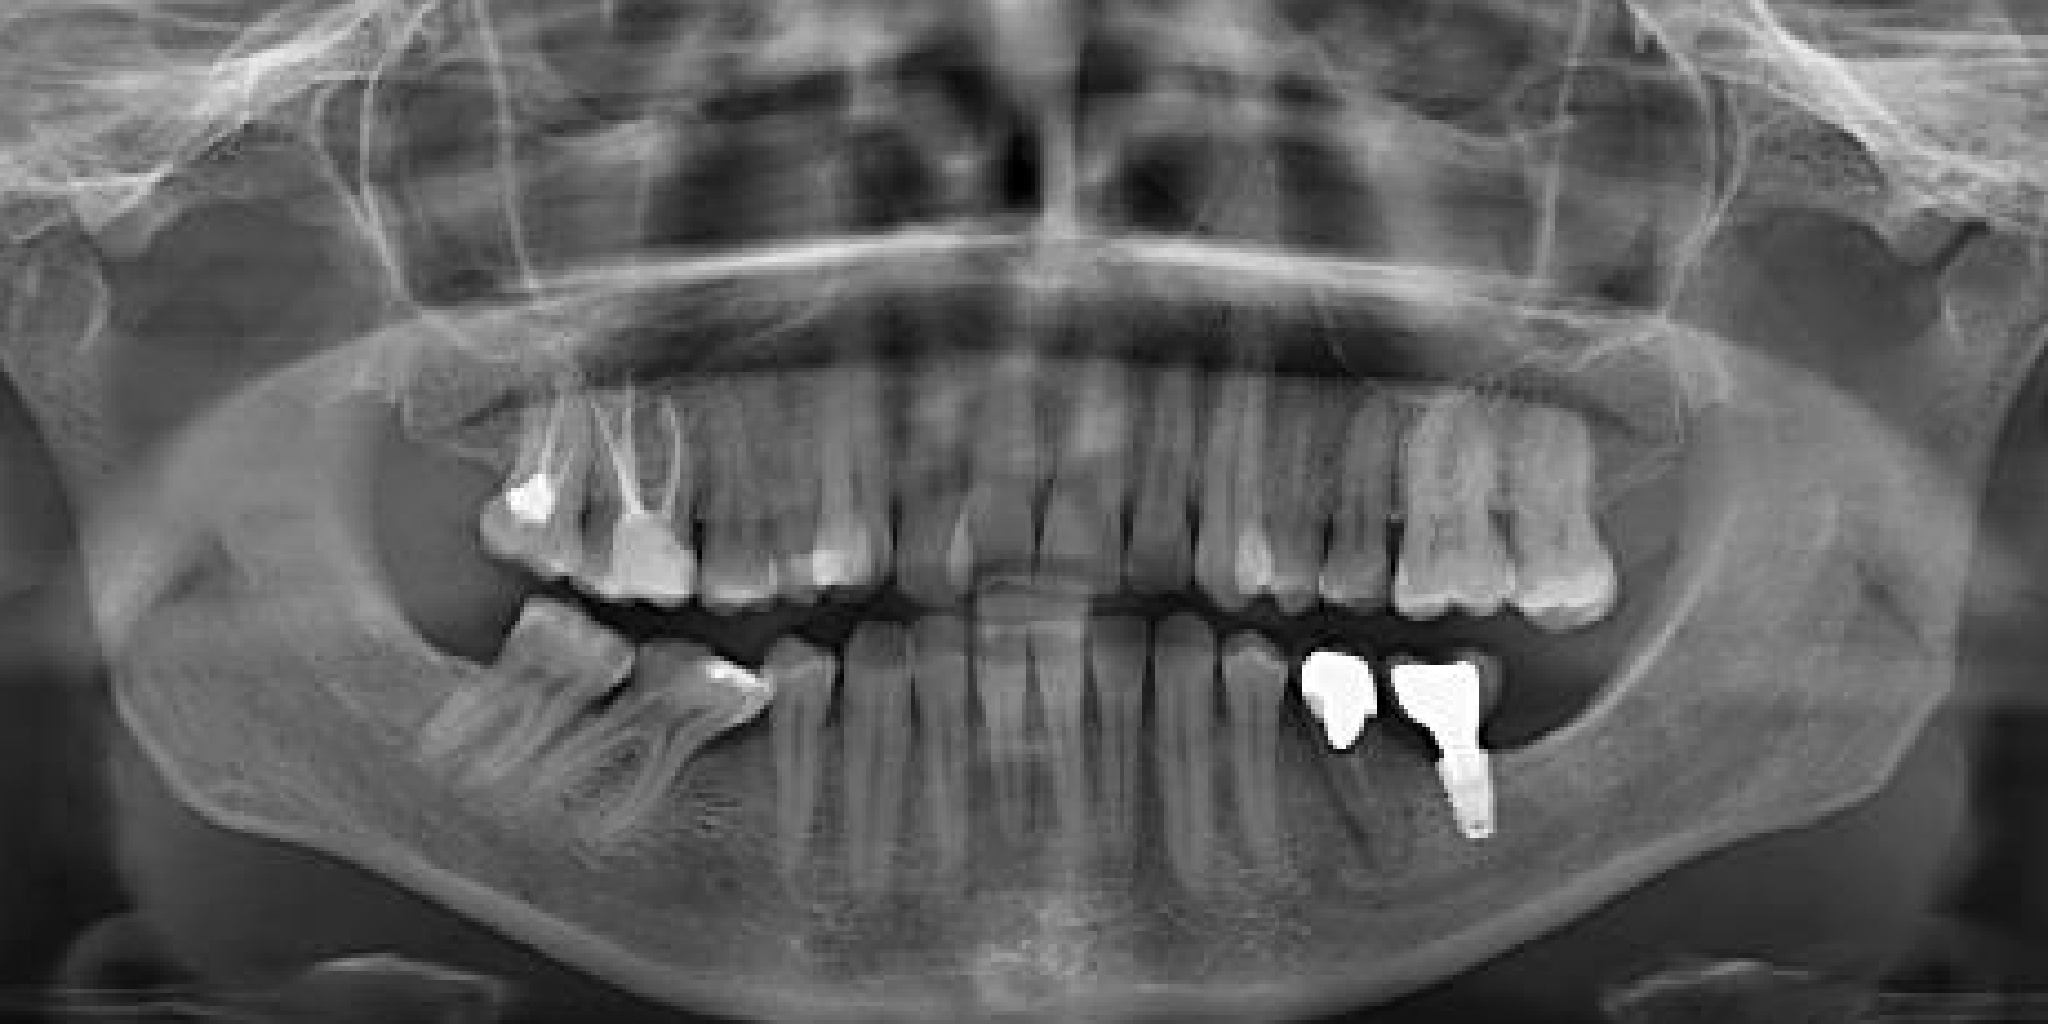Tooth: (505, 593, 793, 883), (394, 566, 650, 839), (520, 357, 730, 640), (709, 337, 876, 616), (1283, 620, 1442, 904), (1368, 618, 1548, 863), (1192, 615, 1347, 899), (1365, 377, 1527, 632), (1125, 598, 1256, 909), (1031, 334, 1165, 623), (1482, 379, 1627, 641), (1226, 349, 1364, 626), (472, 336, 619, 585), (788, 328, 906, 611), (812, 616, 923, 906), (876, 327, 981, 613), (670, 374, 790, 620), (884, 603, 987, 888), (1115, 354, 1225, 611), (1187, 353, 1289, 622), (1309, 372, 1416, 624), (1021, 596, 1122, 862), (744, 631, 845, 888), (1066, 600, 1160, 870), (967, 594, 1048, 865), (969, 344, 1051, 609)
